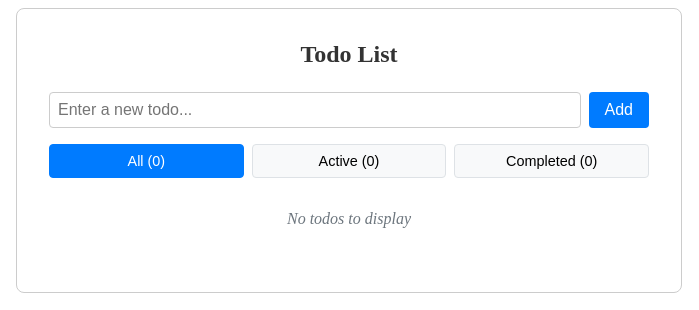
it: TodoList Component › Todo Item Structure › should render checkbox for each todo
In the field with test id "todo-input": [315, 110] box top-left (49, 92), bottom-right (580, 128), type "Test todo"
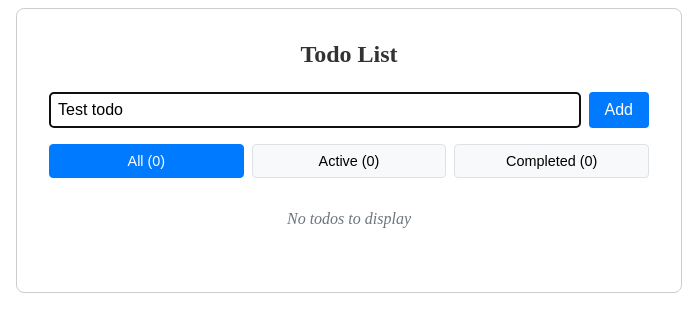
Click the button with test id "todo-add-button": [619, 110] box top-left (588, 92), bottom-right (649, 128)
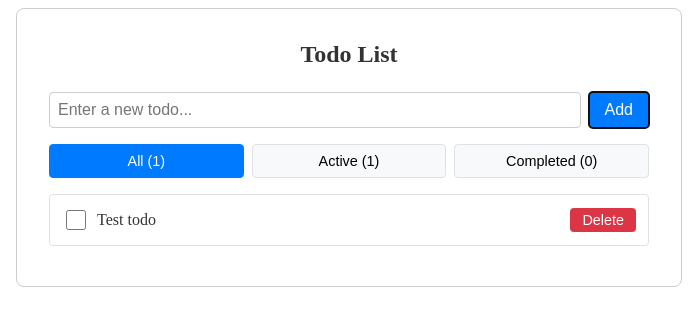
Expected: the checkbox is shown, top-left (66, 210), bottom-right (86, 230)
